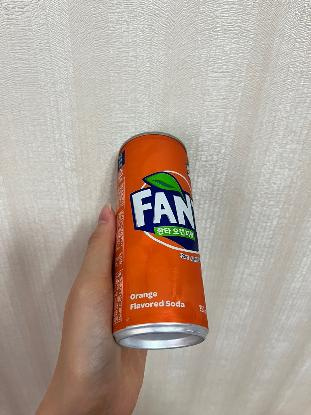Can: (109, 128, 212, 354)
